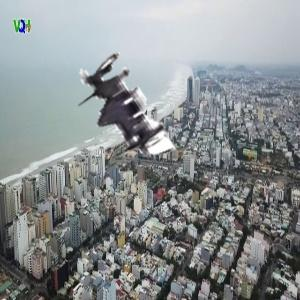drone: (51, 32, 199, 180)
